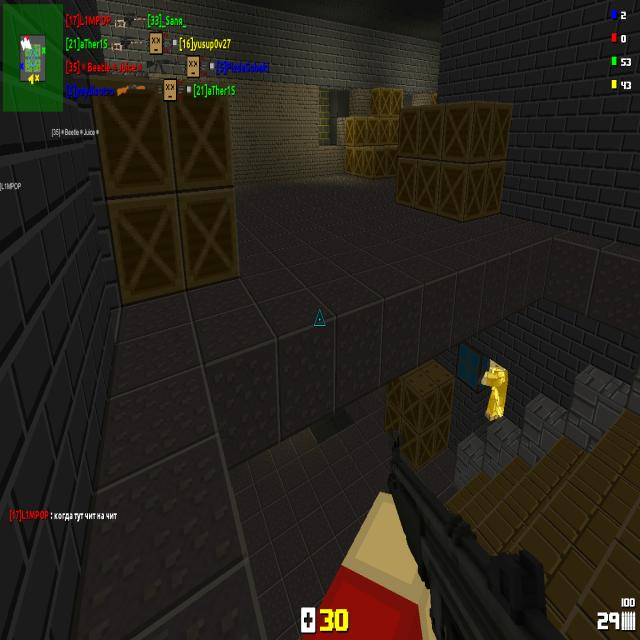enemy: (482, 346, 509, 422)
